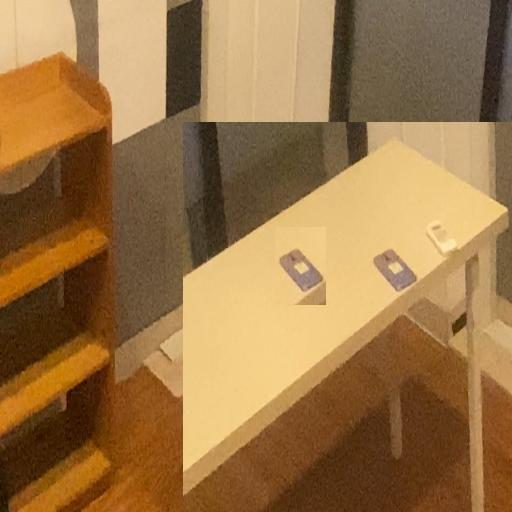hp: (275, 227, 326, 305)
lemari: (0, 44, 114, 512)
meja: (183, 122, 512, 512)
remote AC: (238, 206, 270, 264)
